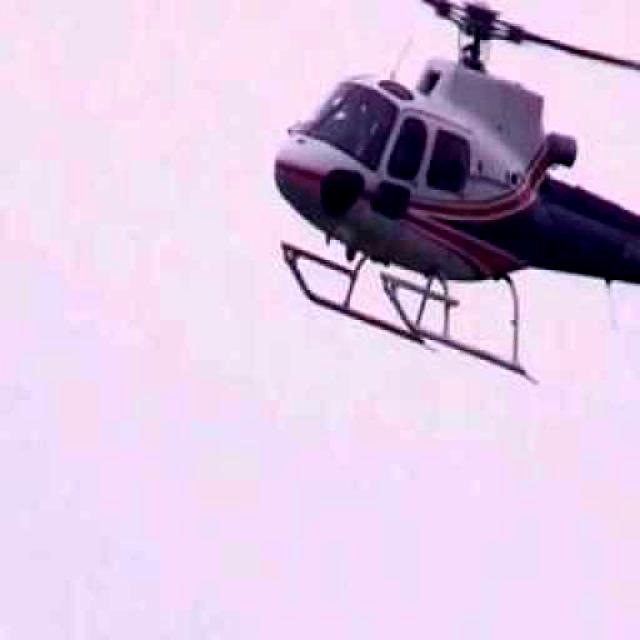drone: (139, 0, 640, 430)
